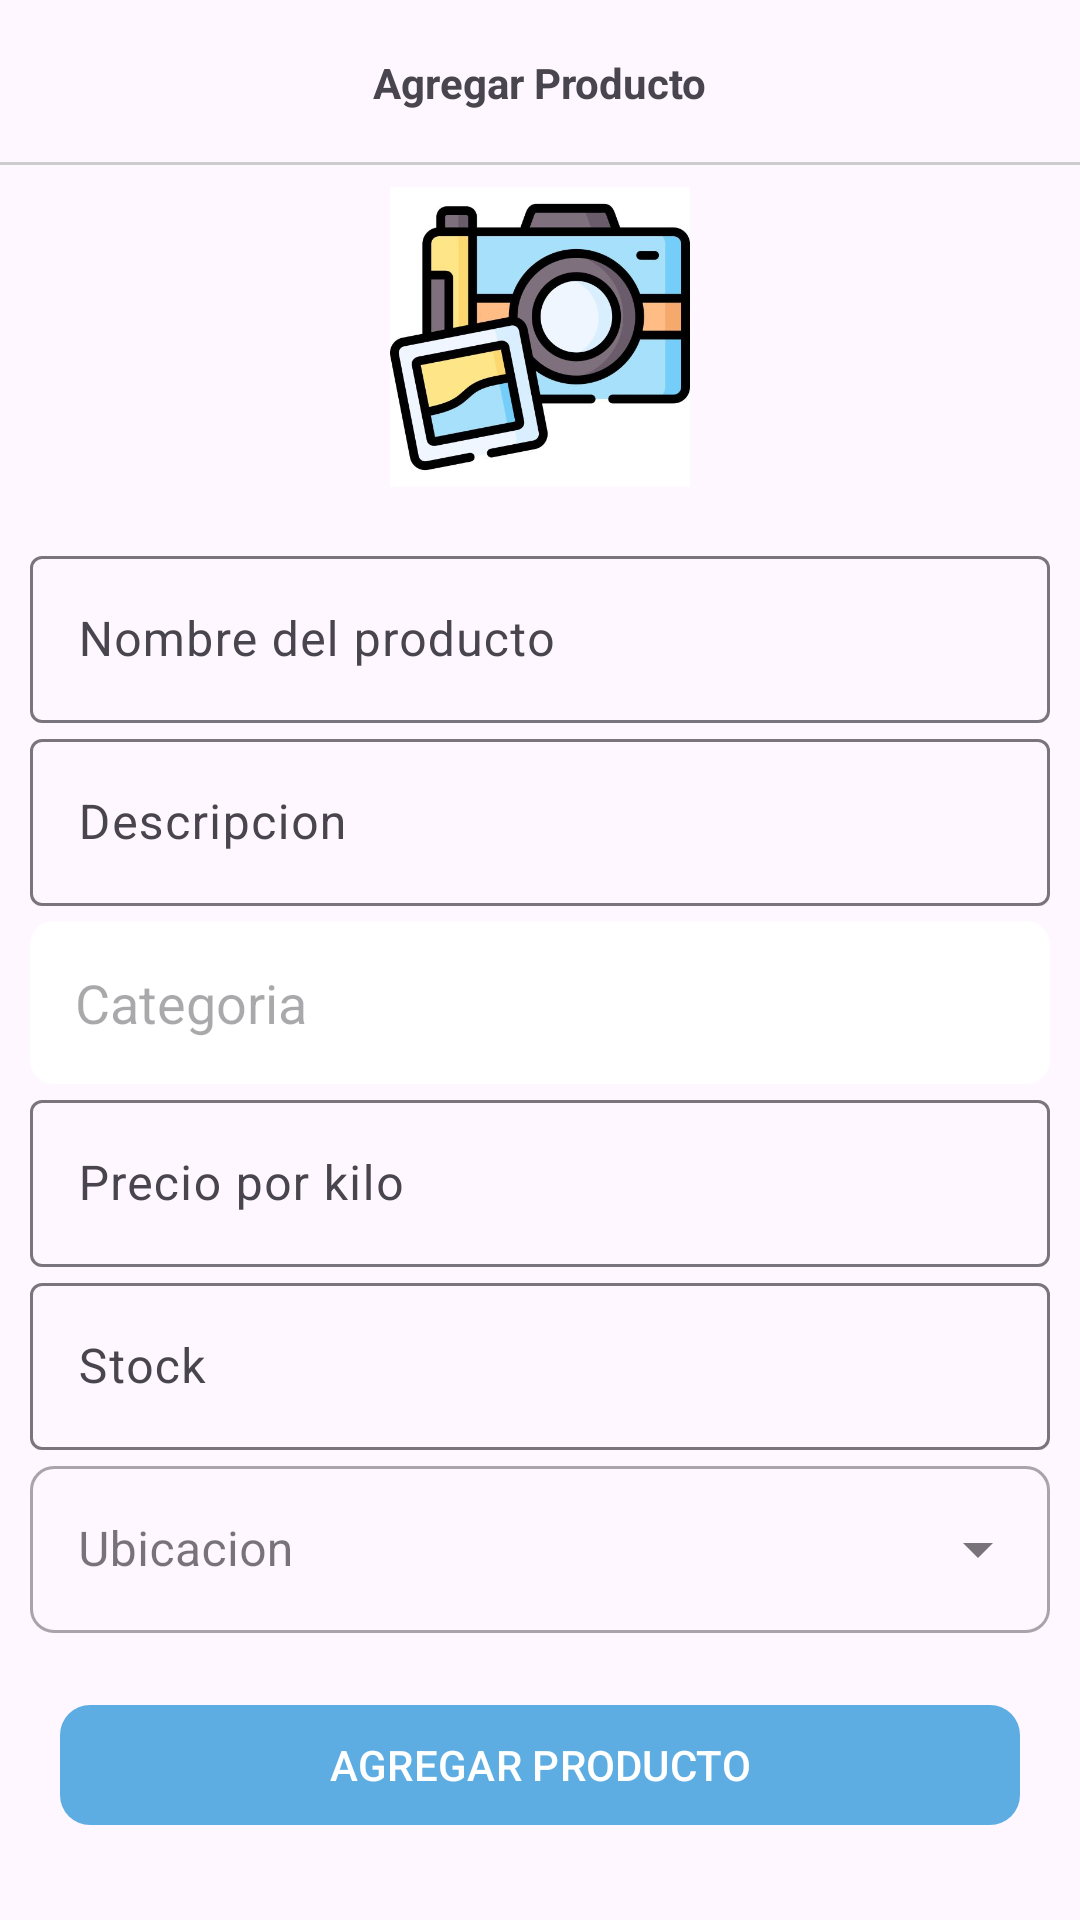

Screen size 1080w x 1920h. Icon name, then its center in pixels as point (x, y):
foto: point (540, 337)
